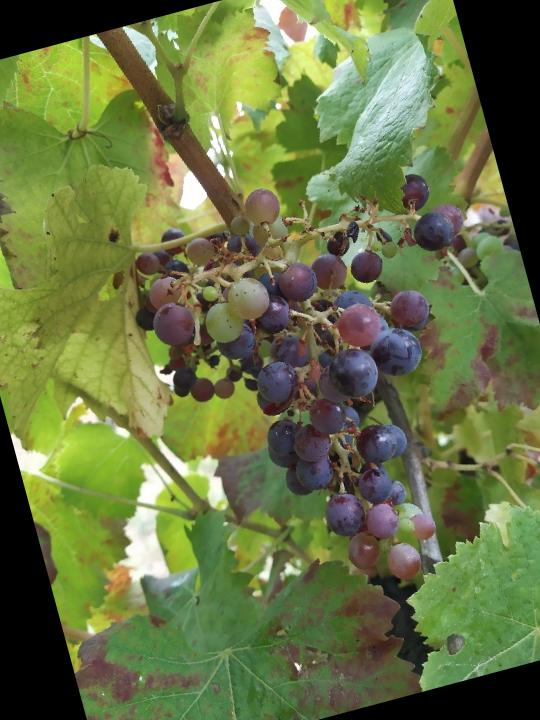grape: (107, 138, 540, 635)
